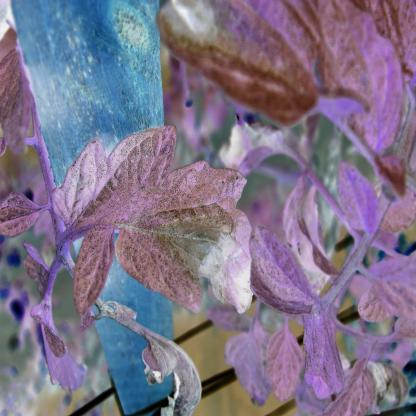tomato leaf late blight: (37, 121, 280, 339)
